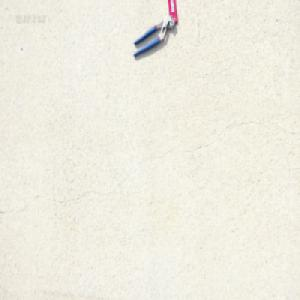Label: (166, 0, 180, 25)
Pliers: (132, 14, 174, 60)
